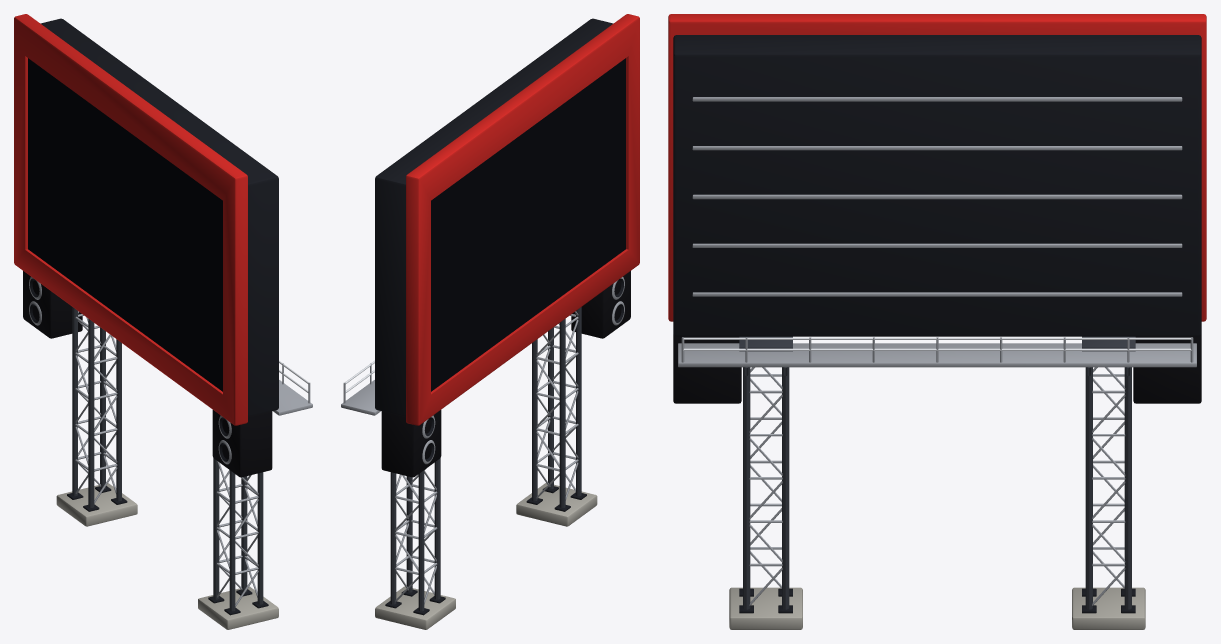
Rendered from A_Jumbotron.fbx.
3 renders of one model, left to right at view 1: azimuth 30°, elevation 25°; view 2: azimuth 150°, elevation 25°; view 3: azimuth 270°, elevation 25°, orthographic. The views are drawn at different scales.
Visible parts, largest first — view 1: Screen, Accent.002, Dark.002, Frame.002, Metal.002, Carbon, Concrete.001; view 2: Screen, Accent.002, Dark.002, Frame.002, Metal.002, Carbon, Concrete.001; view 3: Dark.002, Metal.002, Accent.002, Frame.002, Carbon, Concrete.001, Chrome.001.
Part boxes in pixels (box(x1,y1,x2,y2)): Screen: box(28, 58, 222, 391); Accent.002: box(14, 14, 247, 425); Dark.002: box(30, 18, 278, 615); Frame.002: box(72, 307, 263, 611); Metal.002: box(29, 277, 312, 606); Carbon: box(23, 271, 272, 477); Concrete.001: box(56, 483, 278, 629); Screen: box(431, 58, 625, 391); Accent.002: box(406, 14, 639, 425); Dark.002: box(375, 18, 623, 615); Frame.002: box(390, 307, 581, 611); Metal.002: box(341, 277, 624, 604); Carbon: box(381, 271, 630, 477); Concrete.001: box(375, 483, 597, 629); Dark.002: box(673, 35, 1201, 613); Metal.002: box(678, 97, 1196, 605); Accent.002: box(668, 14, 1206, 321); Frame.002: box(739, 336, 1135, 609); Carbon: box(673, 334, 1201, 403); Concrete.001: box(729, 587, 1145, 629); Chrome.001: box(683, 337, 1191, 350).
Bounding box in the file's own units: 4.7 × 26 × 22.
